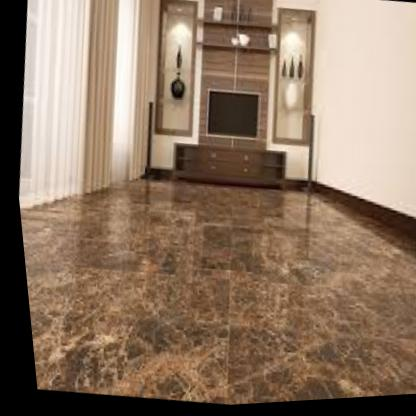Ceramic floor: (18, 183, 416, 407)
Curtains: (72, 0, 118, 195)
TV stand: (165, 136, 286, 197)
Wall Panel: (182, 0, 283, 152)
